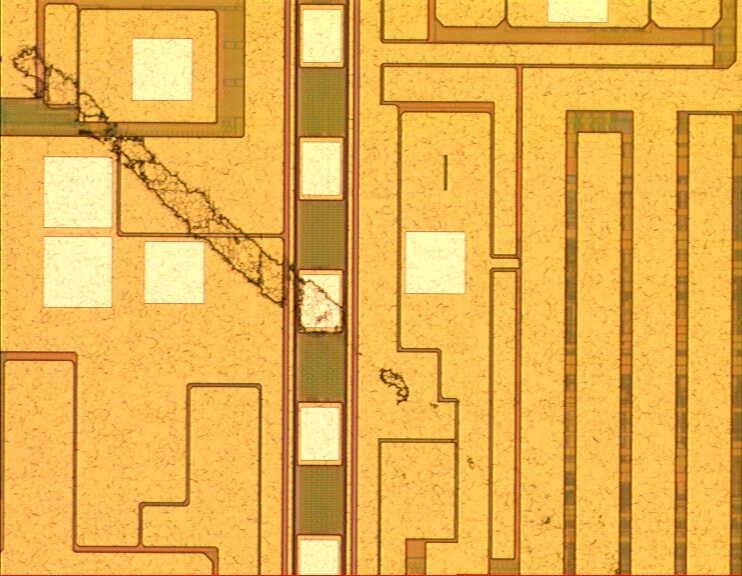SCRATCH: (3, 43, 621, 576)
